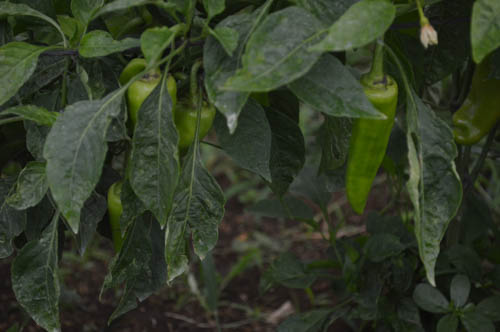ChiliPepper: (344, 82, 392, 216), (451, 52, 496, 154), (127, 74, 173, 147), (171, 102, 214, 159), (106, 183, 135, 258)
